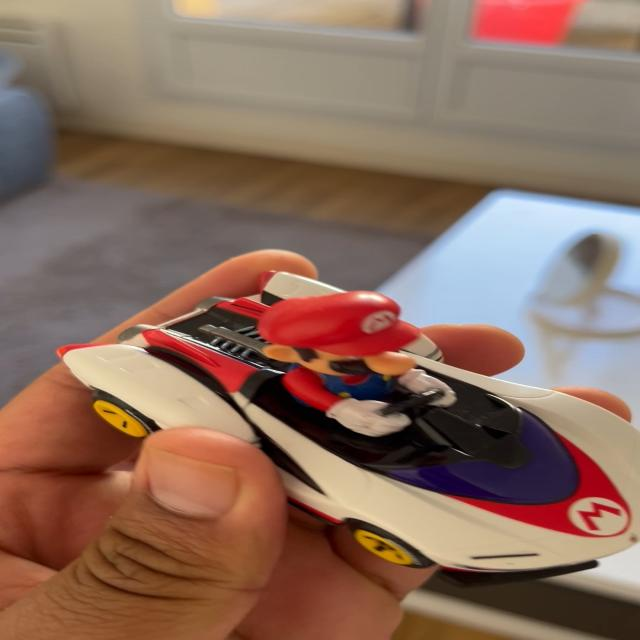mario: (55, 265, 592, 569)
